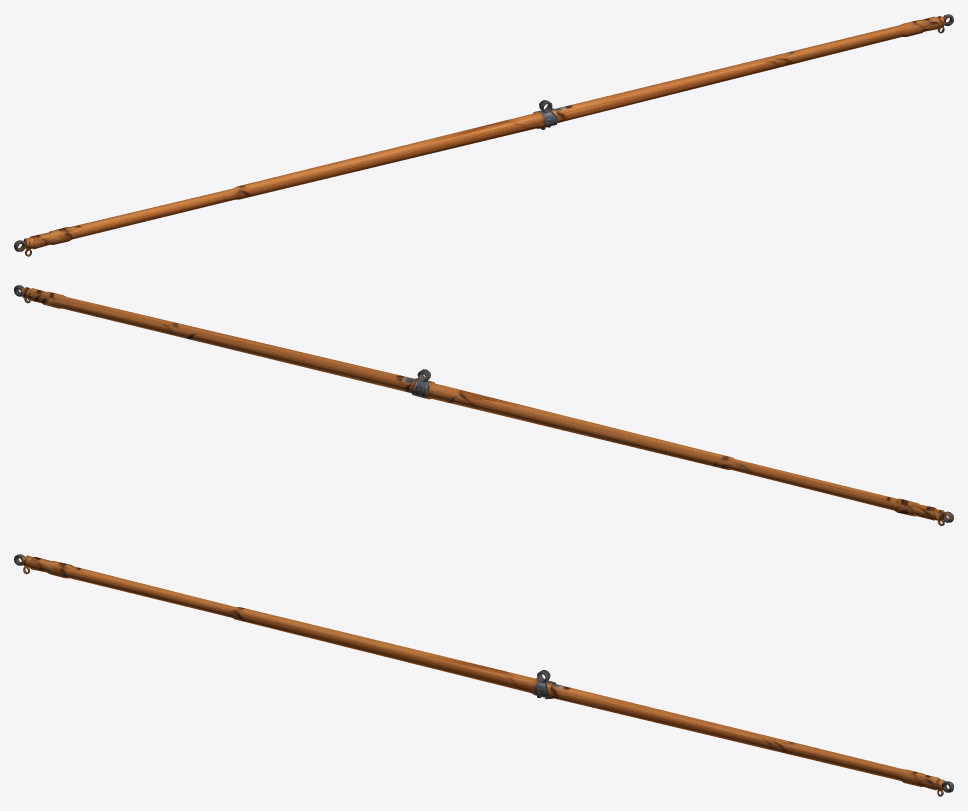
The model's file is lower_yard.glb.
3 views of the same model, one above another, from view 1: azimuth 30°, elevation 25°; view 2: azimuth 150°, elevation 25°; view 3: azimuth 330°, elevation 25° (orthographic).
Parts seen in each view (by area): view 1: lower_yard; view 2: lower_yard; view 3: lower_yard.
Boxes of the visible parts, x1=… form: lower_yard: x1=14, y1=14, x2=953, y2=256; lower_yard: x1=14, y1=285, x2=953, y2=525; lower_yard: x1=14, y1=554, x2=953, y2=796.
Size of the model in its own units: 8 by 0.24 by 0.1364.
Materials: 1 (1 with a texture image).
